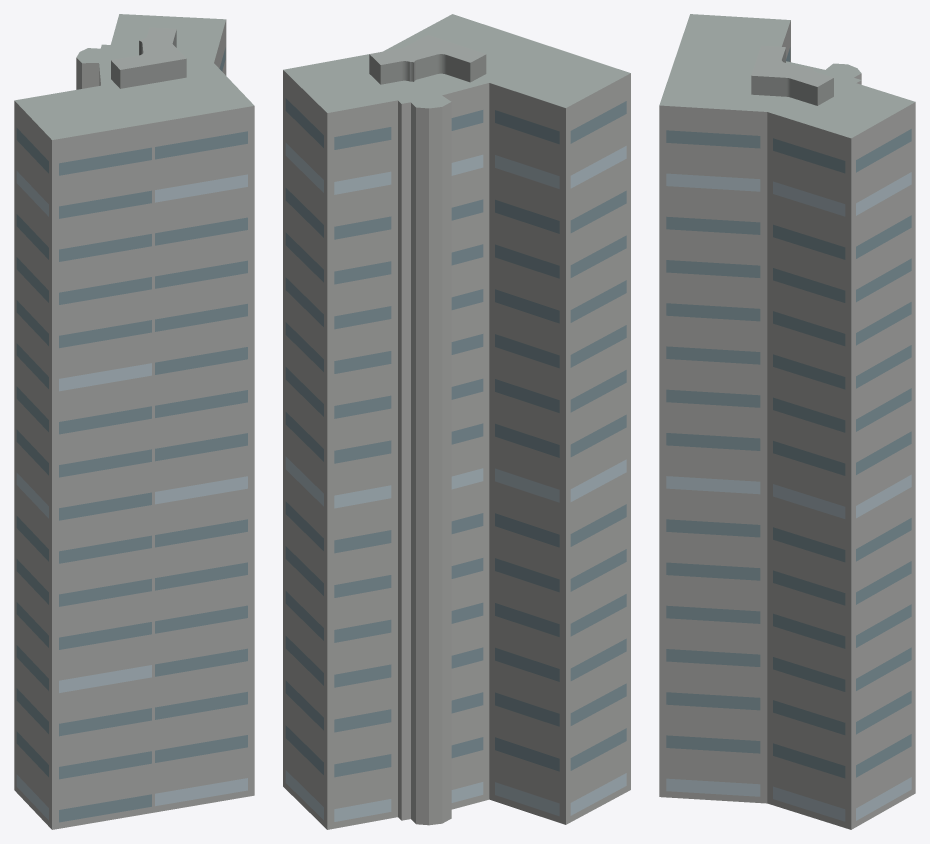
Rendered from fallback-jamsil-trizium-331.glb.
3 views of the same model, side by side, from view 1: azimuth 30°, elevation 25°; view 2: azimuth 150°, elevation 25°; view 3: azimuth 270°, elevation 25° (orthographic). The views are drawn at different scales.
Parts seen in each view (by area): view 1: fallback-jamsil-trizium-331; view 2: fallback-jamsil-trizium-331; view 3: fallback-jamsil-trizium-331.
Part boxes in pixels (<box>): fallback-jamsil-trizium-331: <box>14,14,254,829</box>; fallback-jamsil-trizium-331: <box>283,14,630,829</box>; fallback-jamsil-trizium-331: <box>659,14,915,829</box>.
Bounding box in the file's own units: 33.81 × 90 × 29.44.
